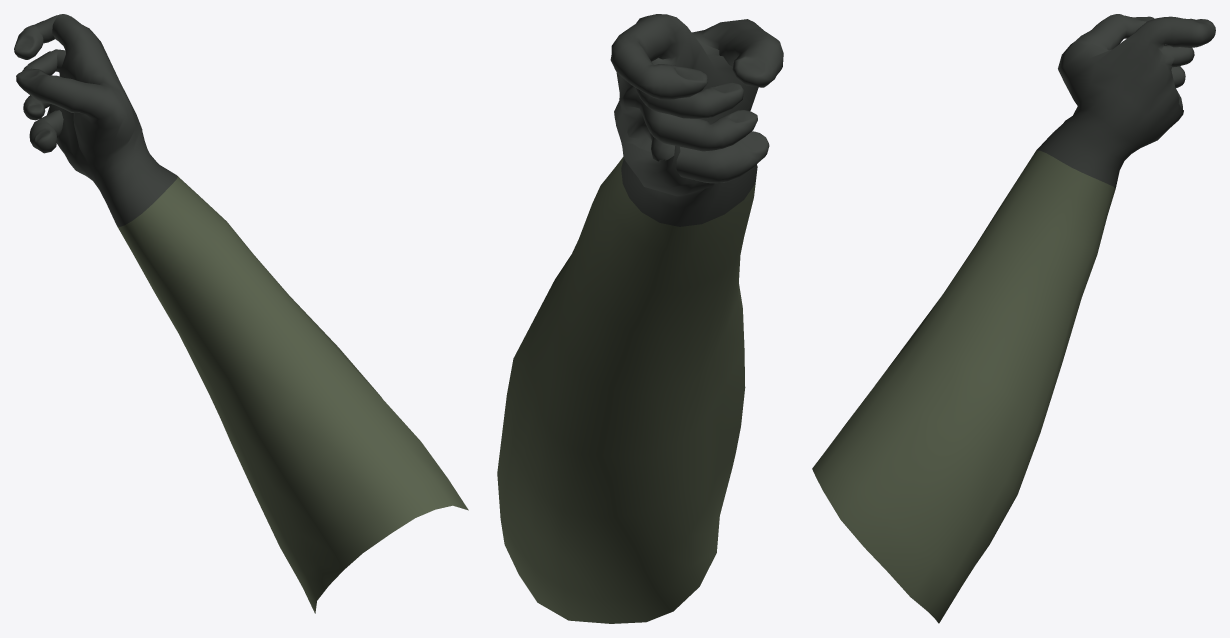
File: anatomical_right.glb
3 views of the same model, side by side, from view 1: azimuth 30°, elevation 25°; view 2: azimuth 150°, elevation 25°; view 3: azimuth 270°, elevation 25° (orthographic). The views are drawn at different scales.
Visible parts, largest first — view 1: anatomical_right; view 2: anatomical_right; view 3: anatomical_right.
Part boxes in pixels (bbox=[...]): anatomical_right: bbox=[14, 14, 468, 613]; anatomical_right: bbox=[497, 14, 783, 623]; anatomical_right: bbox=[812, 14, 1215, 623].
Bounding box in the file's own units: 0.2381 × 0.403 × 0.2838.
